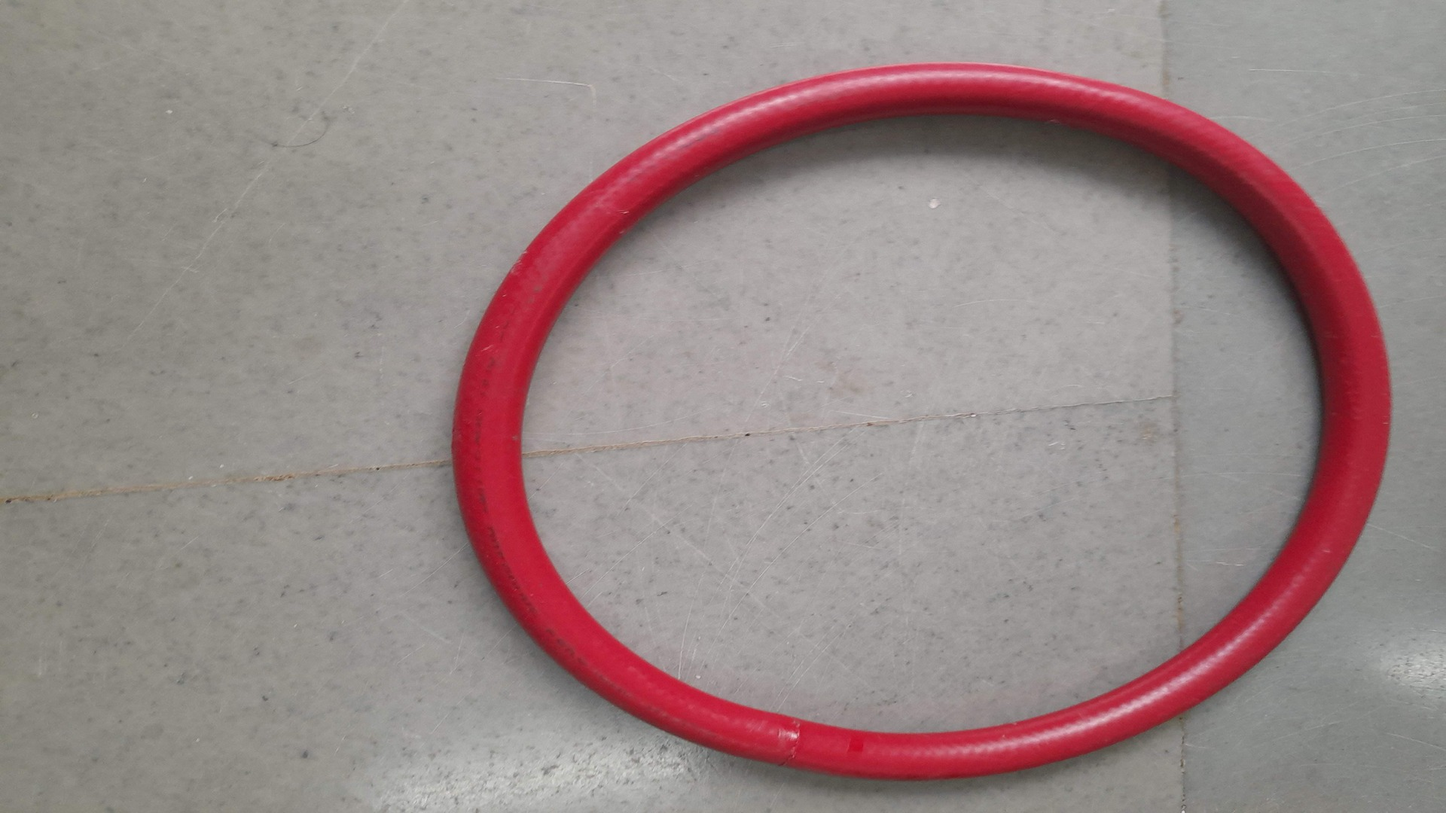Red ring: (451, 63, 1398, 779)
